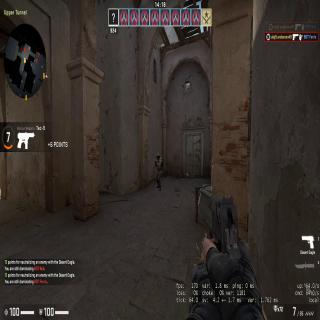CT-Body: (154, 151, 164, 192)
CT-Head: (156, 153, 160, 160)
